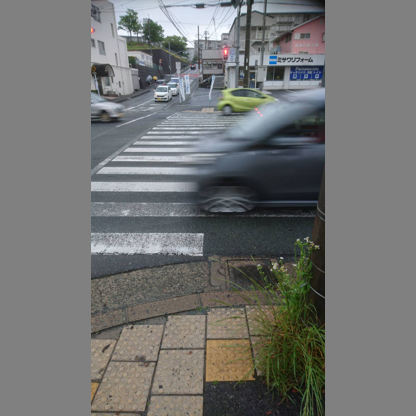brailleblock: (91, 334, 201, 416), (205, 306, 255, 379)
crosswalk: (92, 179, 179, 259), (138, 137, 180, 179), (173, 113, 215, 130)
signal: (222, 47, 229, 60)
